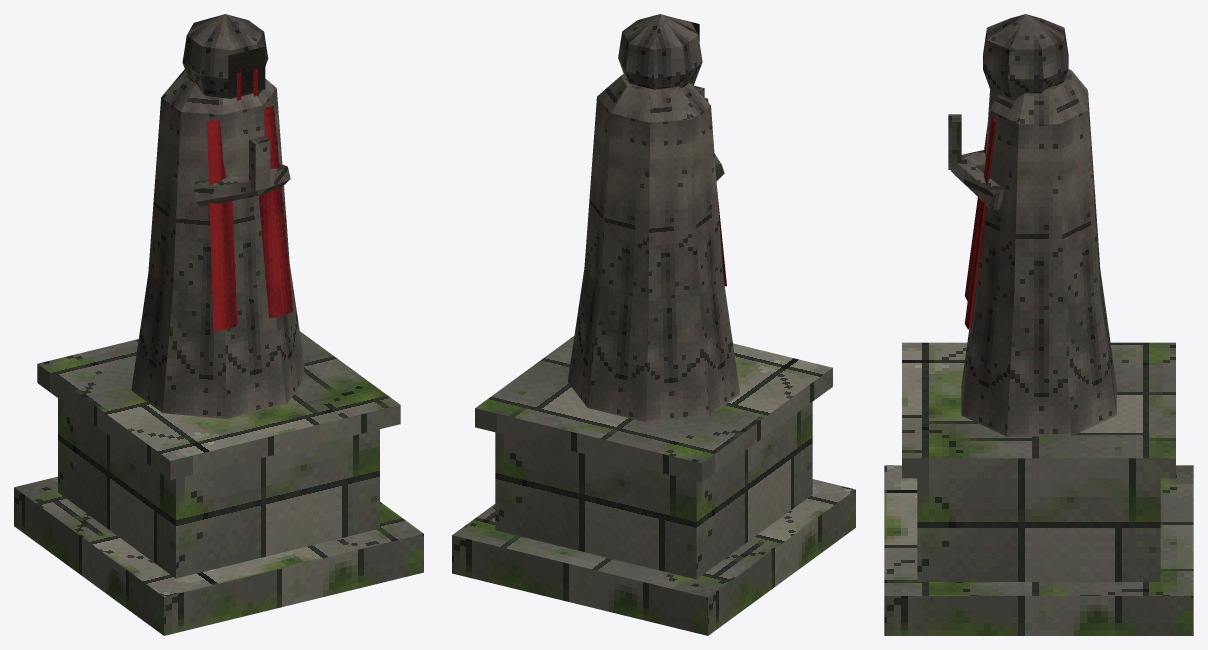
File: estatua_gastada.obj
3 renders of one model, left to right at view 1: azimuth 30°, elevation 25°; view 2: azimuth 150°, elevation 25°; view 3: azimuth 270°, elevation 25°, orthographic. The views are drawn at different scales.
Visible parts, largest first — view 1: estatua_gastada; view 2: estatua_gastada; view 3: estatua_gastada.
Boxes of the visible parts, box(x1,y1,x2,y2) form: estatua_gastada: box(14, 14, 423, 635); estatua_gastada: box(452, 14, 855, 635); estatua_gastada: box(884, 14, 1193, 635).
Size of the model in its own units: 1.4 by 2.78 by 1.4.
Materials: 5 (5 with a texture image).
